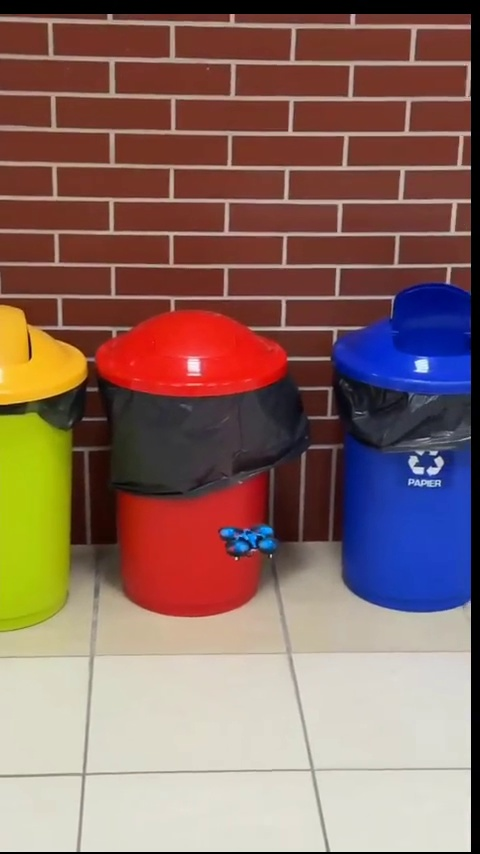drone: (221, 525, 283, 561)
